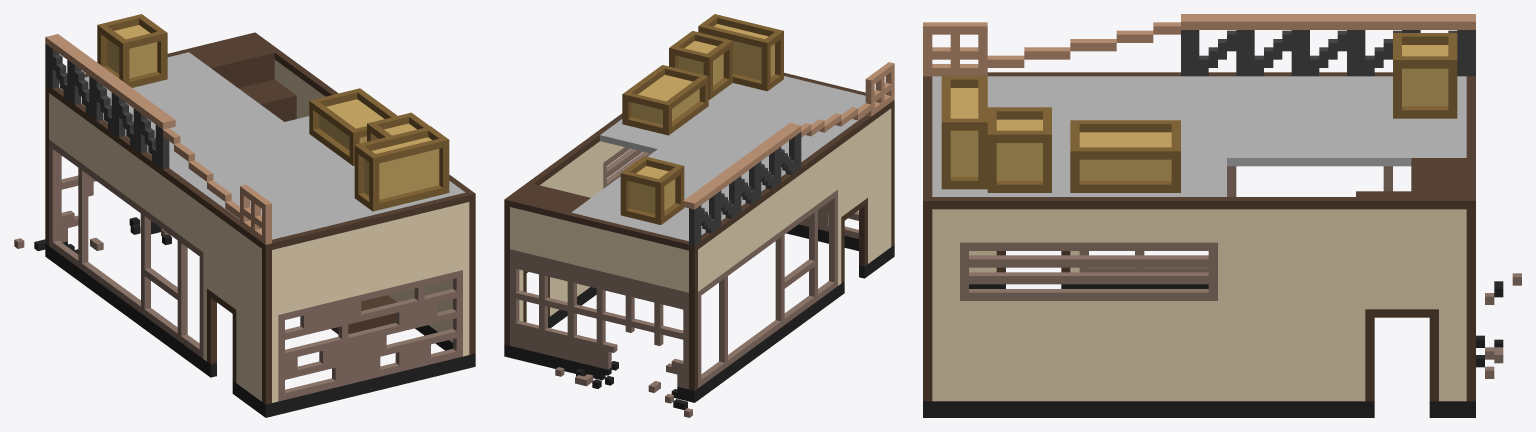
The model's file is house.obj.
3 views of the same model, side by side, from view 1: azimuth 30°, elevation 25°; view 2: azimuth 150°, elevation 25°; view 3: azimuth 270°, elevation 25° (orthographic). The views are drawn at different scales.
Size of the model in its own units: 3.5 by 3.4 by 6.5.
1 material, 1 textured.
